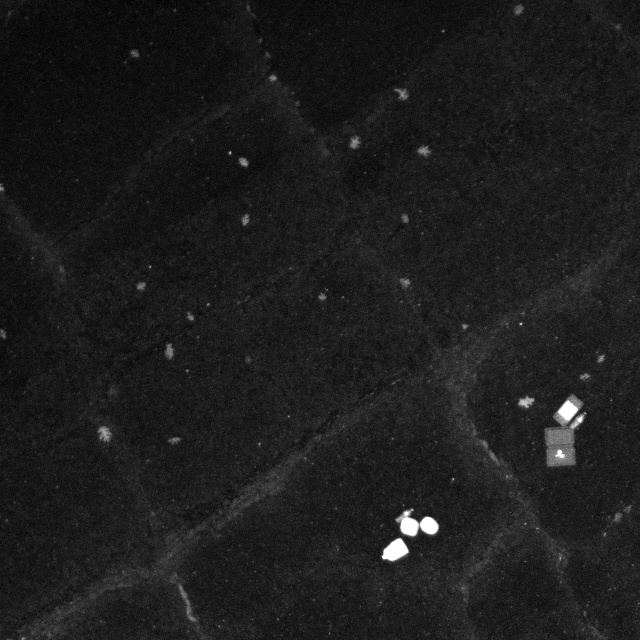bottle: (567, 409, 588, 434), (394, 506, 414, 525)
can: (380, 537, 409, 564), (418, 512, 441, 540), (399, 515, 421, 539)
container: (543, 424, 580, 470), (549, 390, 588, 429)
